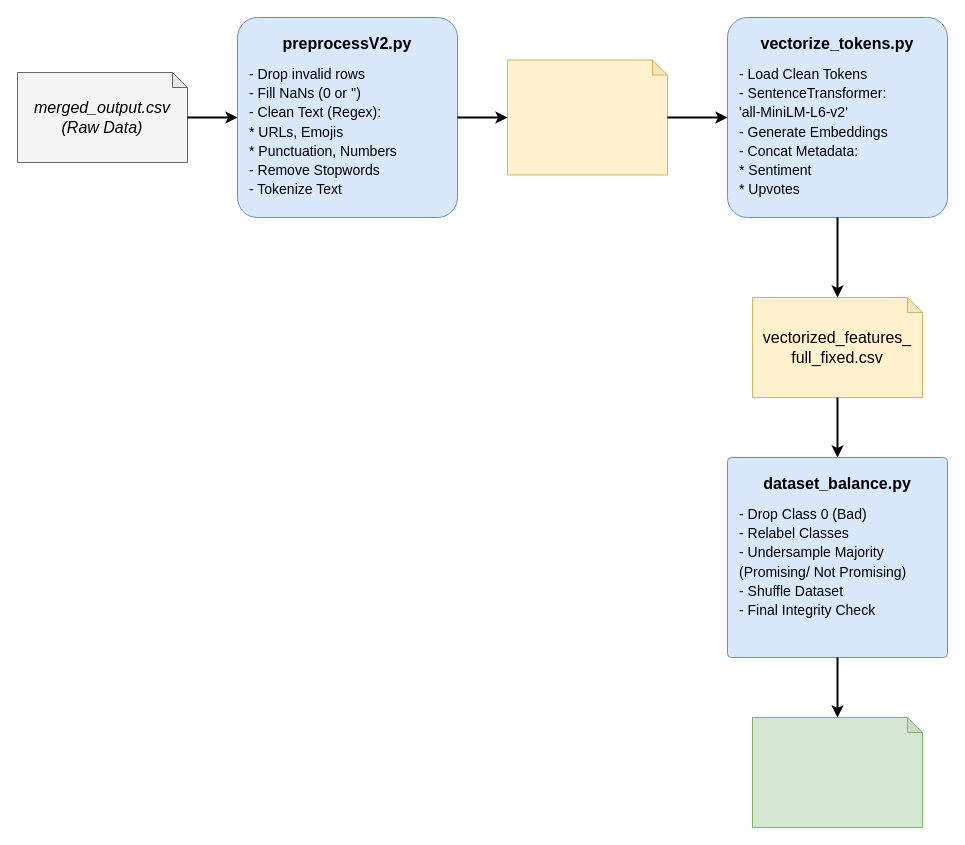
This 965x845 diagram has some shape labels left out. The shapes that lost their labels are listed below. From the top down, each one's centre as x and y in pixels, then its label:
At (587,117): "tokenized_dataset.csv (Cleaned Tokens)".
At (837,772): "vectorized_features_ balanced.csv (Ready for Training)".
